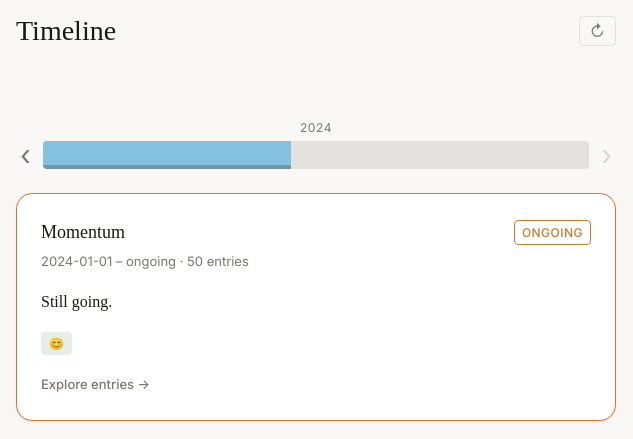
Scenario: PhasesPage › navigating to a prior year shows that year label
Check: the heading "Momentum" is shown, box [41, 218, 125, 247]
Click the button named "Previous year" at coordinates (25, 155), box [16, 141, 35, 169]
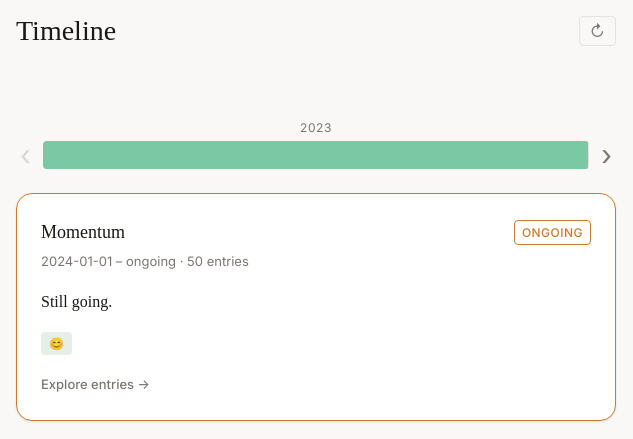
Check: the text "2023" is shown, box [300, 120, 332, 135]
